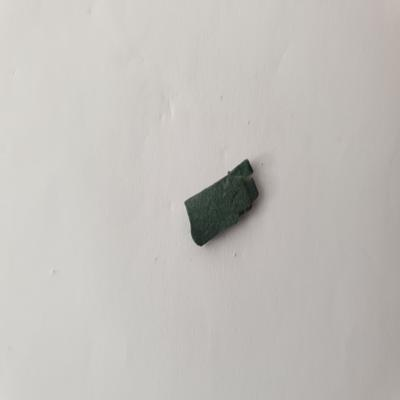plastic: (179, 154, 264, 249)
